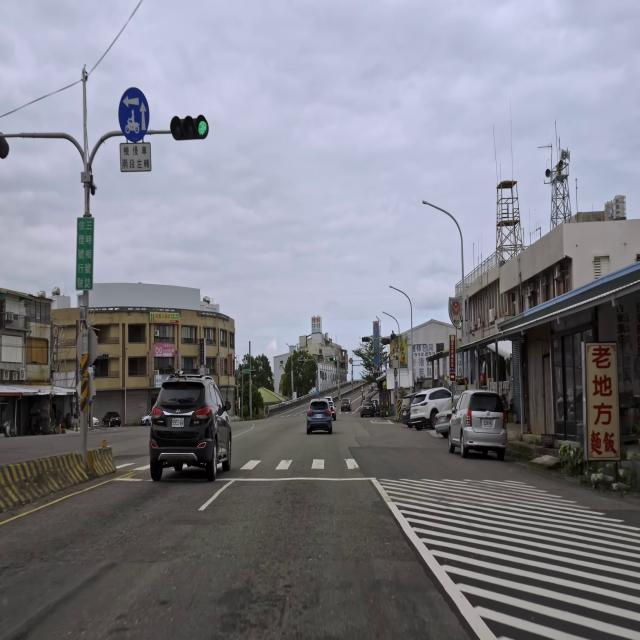green light: (170, 114, 210, 142)
